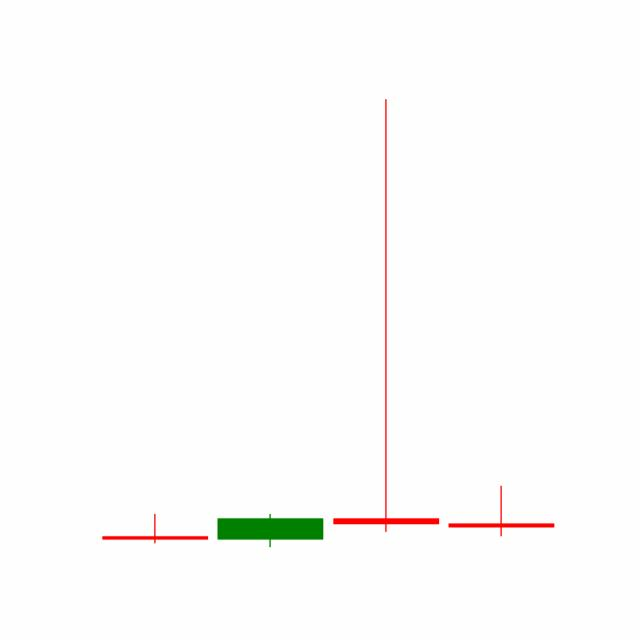Spinning Top: (328, 93, 444, 536)
